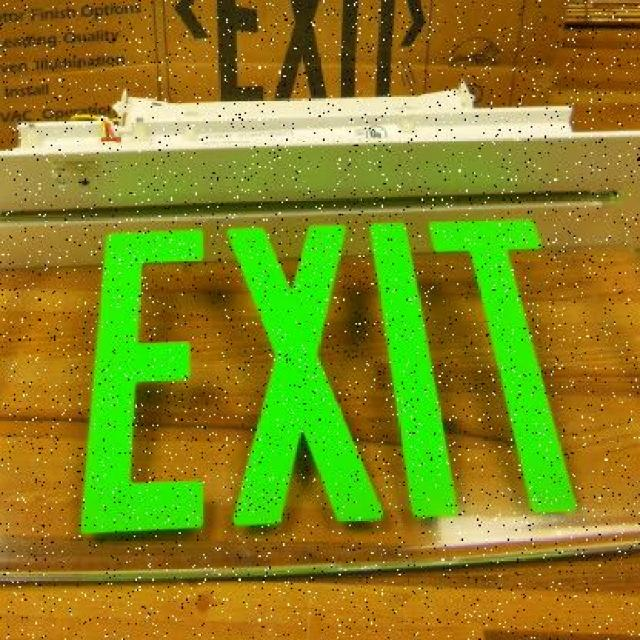exit_sign: (74, 212, 599, 526)
